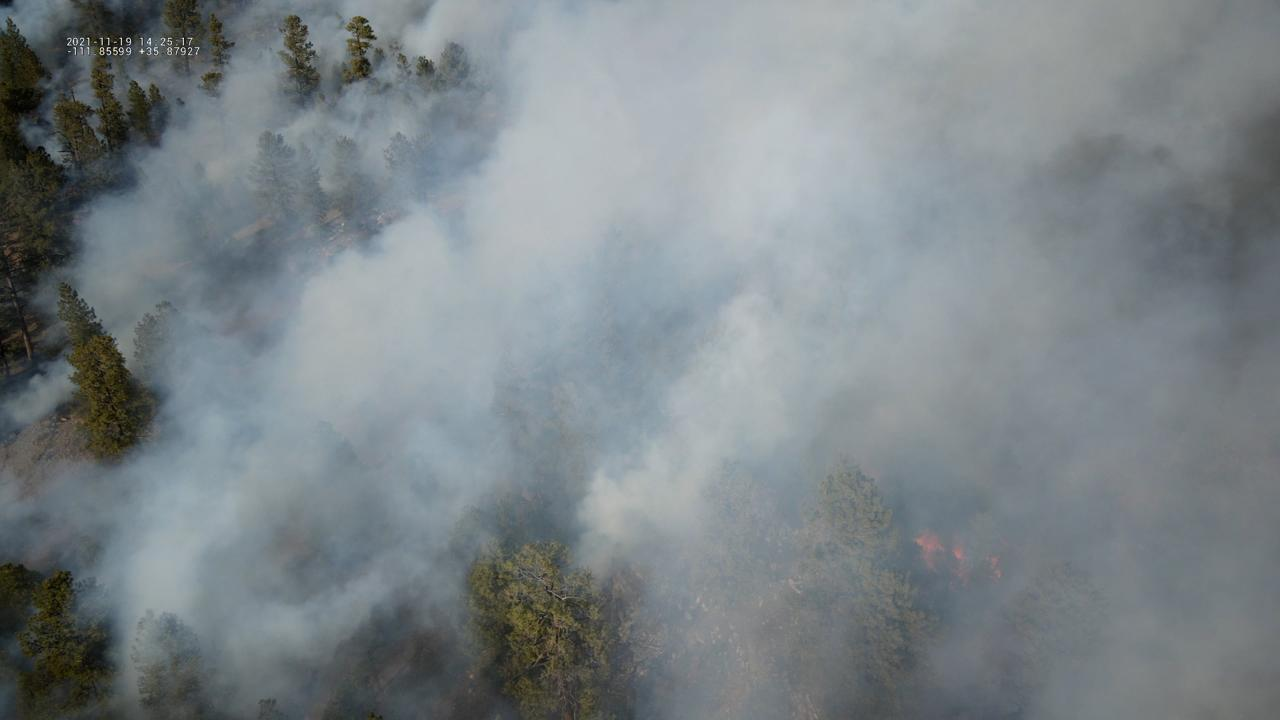fire: (913, 529, 946, 574), (983, 554, 1001, 584), (951, 545, 965, 583)
smoke: (0, 0, 1280, 720)
